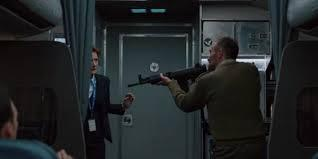rifle: (126, 63, 208, 99)
